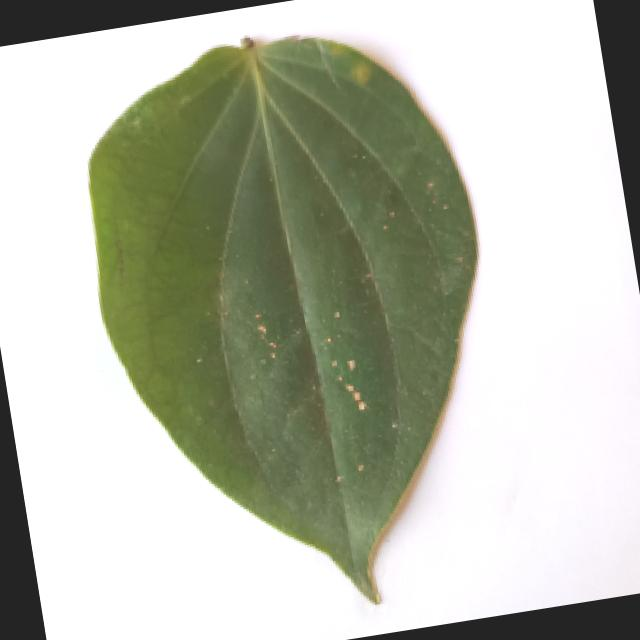pollu-disease: (60, 9, 525, 636)
